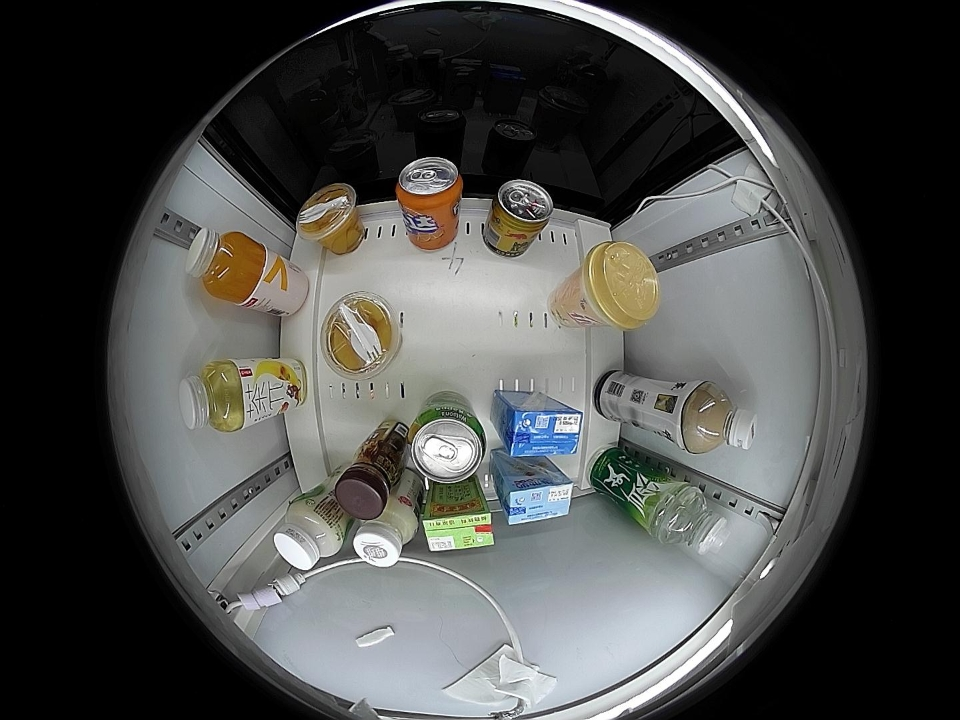chapai2: (179, 359, 248, 434)
fenda: (395, 157, 464, 213)
hongniu2: (490, 179, 554, 238)
jianjiao: (655, 485, 730, 556)
lujikafei: (336, 439, 404, 519)
quchenshixiangcao: (408, 404, 487, 484)
wanglaoji: (422, 500, 495, 552)
weic: (185, 229, 268, 305)
weitanai: (501, 396, 583, 459)
weitanaiditang: (501, 468, 574, 525)
weiweidounai: (351, 498, 419, 567)
wuhounaicha: (681, 381, 759, 455)
xianguolao: (320, 292, 402, 381), (296, 183, 359, 245)
youlemei: (576, 241, 660, 330)
yousuanru: (273, 498, 346, 571)
